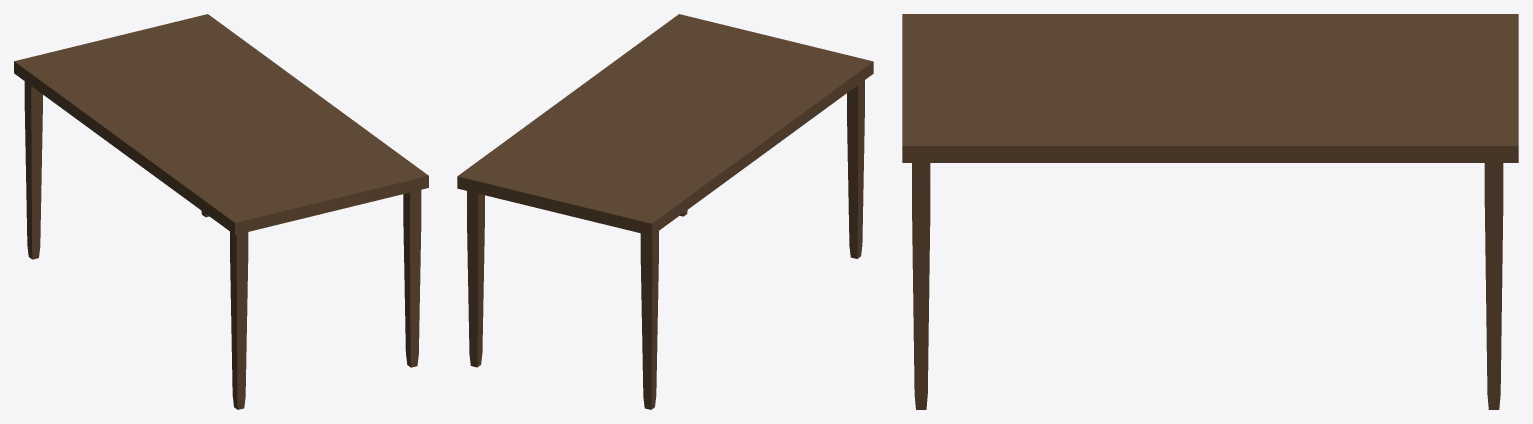
File: Table.fbx
The picture shows the model from 3 angles, left to right: view 1: azimuth 30°, elevation 25°; view 2: azimuth 150°, elevation 25°; view 3: azimuth 270°, elevation 25°; orthographic projection. The views are drawn at different scales.
Visible parts, largest first — view 1: pCube6; view 2: pCube6; view 3: pCube6.
Part boxes in pixels (x1,y1,x2,y2): pCube6: (14, 14, 428, 409); pCube6: (457, 14, 873, 409); pCube6: (902, 14, 1518, 409).
Bounding box in the file's own units: 96.41 × 91.49 × 190.
